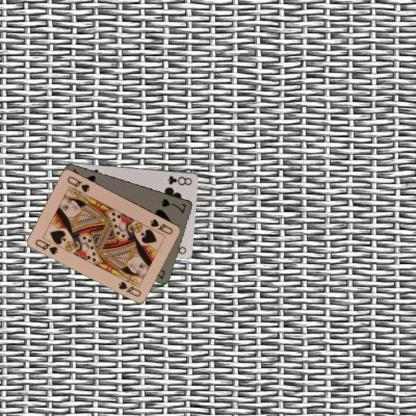7s: (158, 196, 188, 214)
8c: (165, 173, 193, 186)
Qs: (148, 216, 174, 236), (33, 236, 59, 256)
